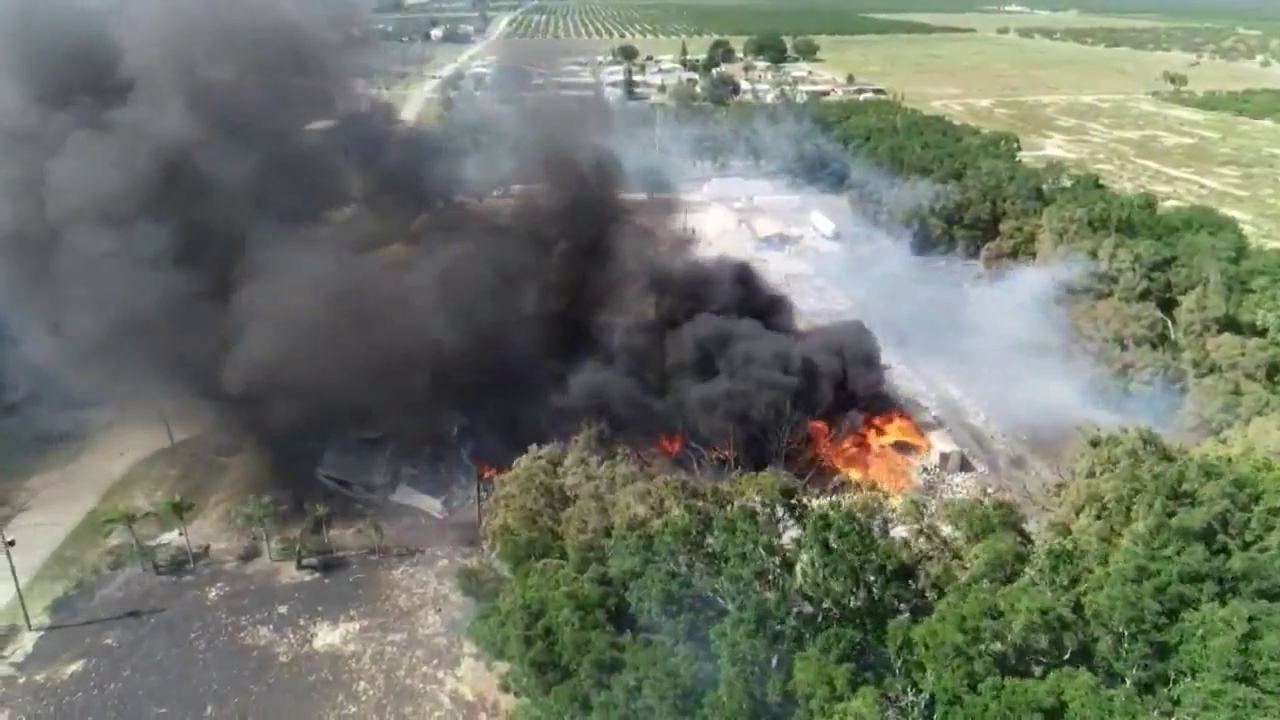forest_fire: (793, 408, 929, 493), (652, 433, 695, 458), (704, 447, 732, 463), (477, 464, 499, 479)
